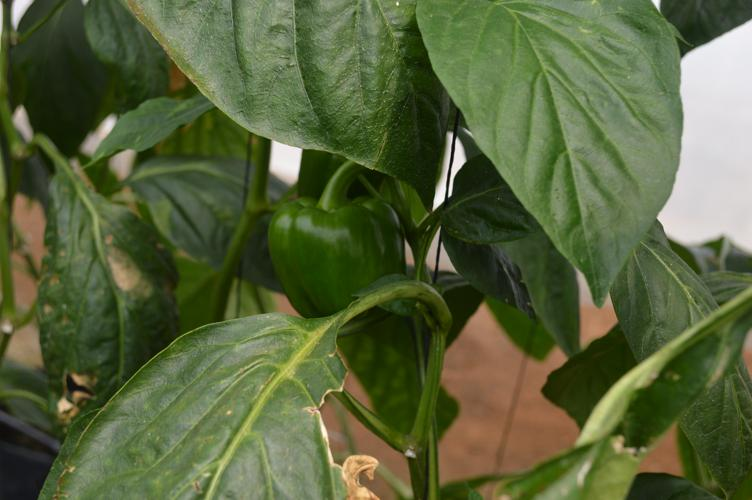BellPepper: (269, 199, 406, 320)
